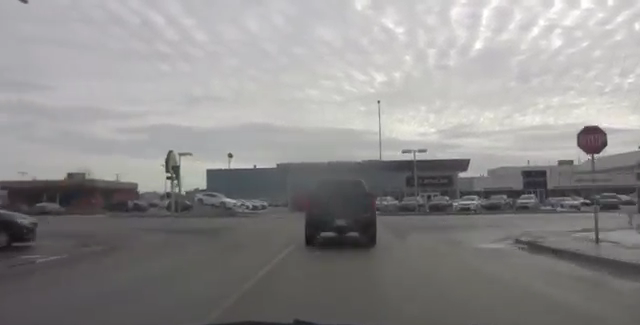car: (303, 179, 377, 247), (1, 203, 39, 252), (194, 189, 238, 209), (482, 193, 514, 210), (455, 195, 483, 212), (551, 195, 580, 211), (373, 195, 400, 211), (399, 195, 426, 211), (426, 195, 453, 211), (515, 192, 540, 209), (598, 192, 619, 209), (568, 194, 591, 206)
